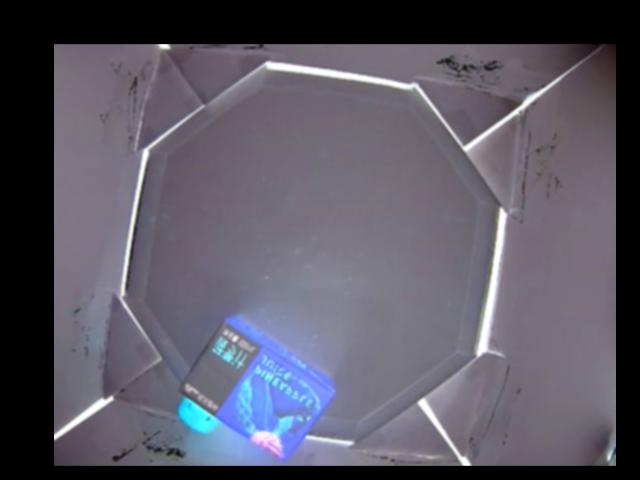Bottle: (176, 313, 337, 462)
